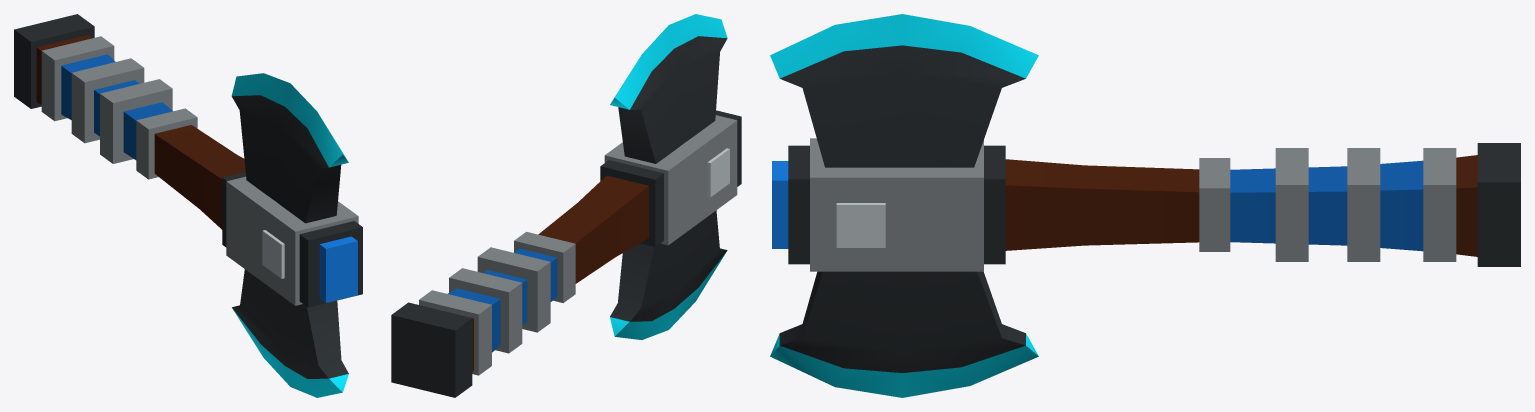
Rendered from Axe 02.FBX.
The picture shows the model from 3 angles, left to right: view 1: azimuth 30°, elevation 25°; view 2: azimuth 150°, elevation 25°; view 3: azimuth 270°, elevation 25°; orthographic projection. The views are drawn at different scales.
Parts seen in each view (by area): view 1: Axe 02; view 2: Axe 02; view 3: Axe 02.
Part boxes in pixels (box(x1,y1,x2,y2)): Axe 02: box(14, 14, 362, 397); Axe 02: box(391, 14, 741, 397); Axe 02: box(770, 14, 1520, 397).
Bounding box in the file's own units: 12.22 × 50.97 × 90.33.
Materials: 1 (1 with a texture image).
